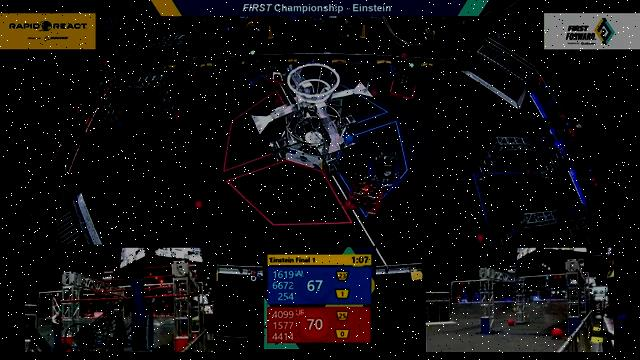Robot: (343, 170, 386, 219), (382, 53, 422, 105), (364, 147, 402, 190), (267, 55, 303, 93), (242, 50, 271, 86)
